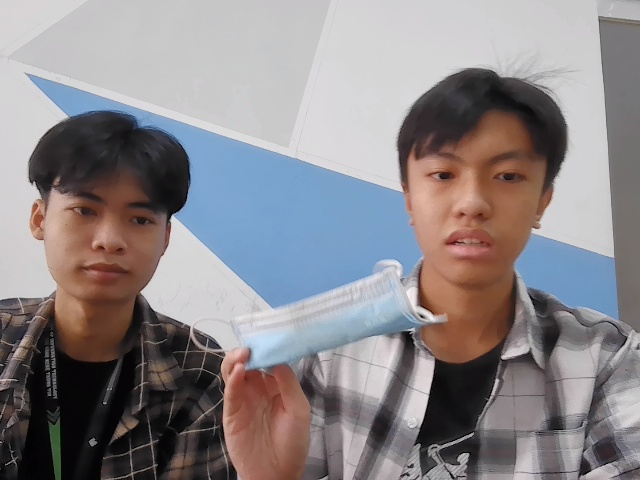human: (402, 66, 562, 284), (32, 107, 186, 305)
mask: (214, 261, 450, 370)
